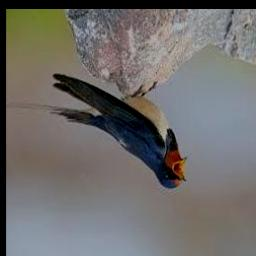Swallow: (51, 74, 187, 188)
